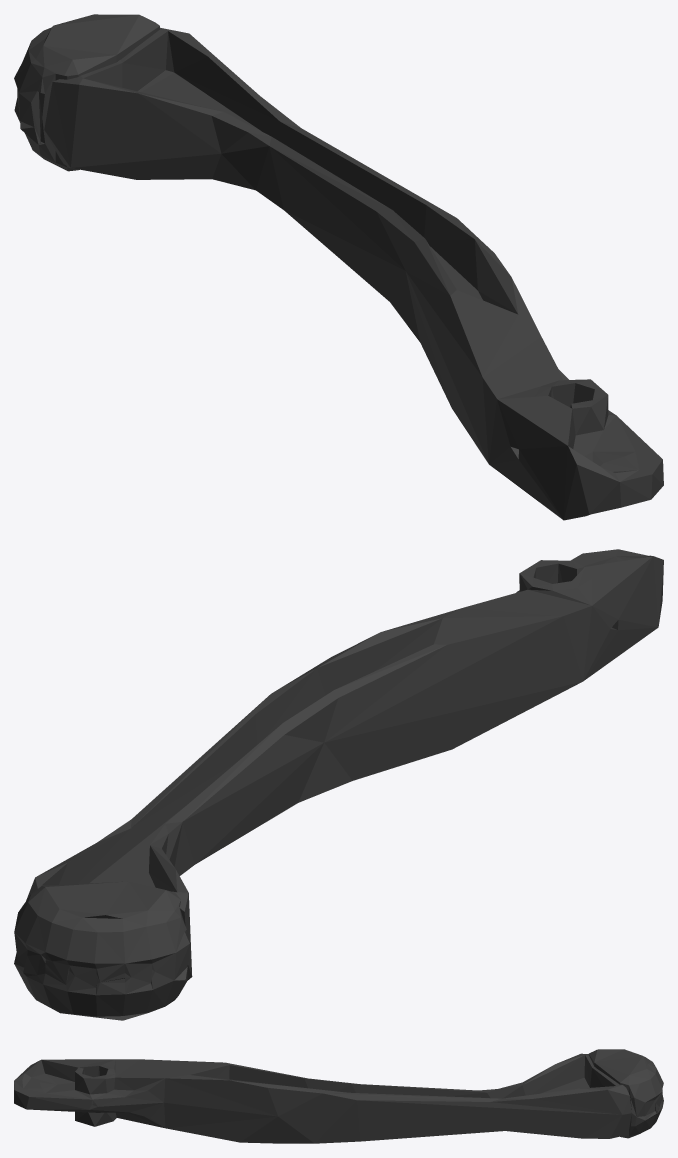
The model's file is front_right_lower_leg_compressed.dae.
3 views of the same model, one above another, from view 1: azimuth 30°, elevation 25°; view 2: azimuth 150°, elevation 25°; view 3: azimuth 270°, elevation 25° (orthographic). The views are drawn at different scales.
Parts seen in each view (by area): view 1: node; view 2: node; view 3: node.
Boxes of the visible parts, left/top/right/bottom form: node: left=14, top=14, right=663, bottom=520; node: left=14, top=549, right=663, bottom=1020; node: left=14, top=1049, right=663, bottom=1143.
Size of the model in its own units: 0.0748 by 0.0452 by 0.4231.
1 material, 1 textured.
